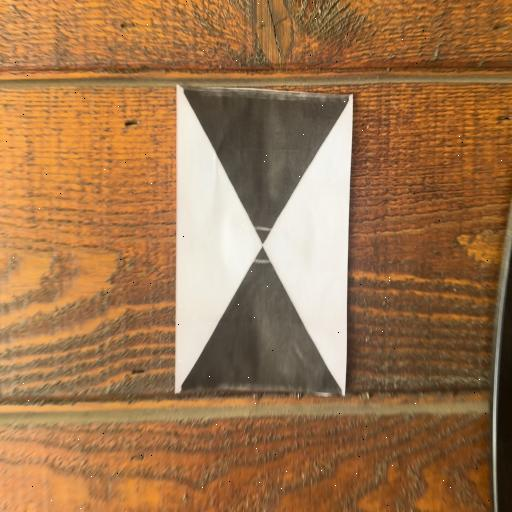target: (175, 85, 353, 396)
